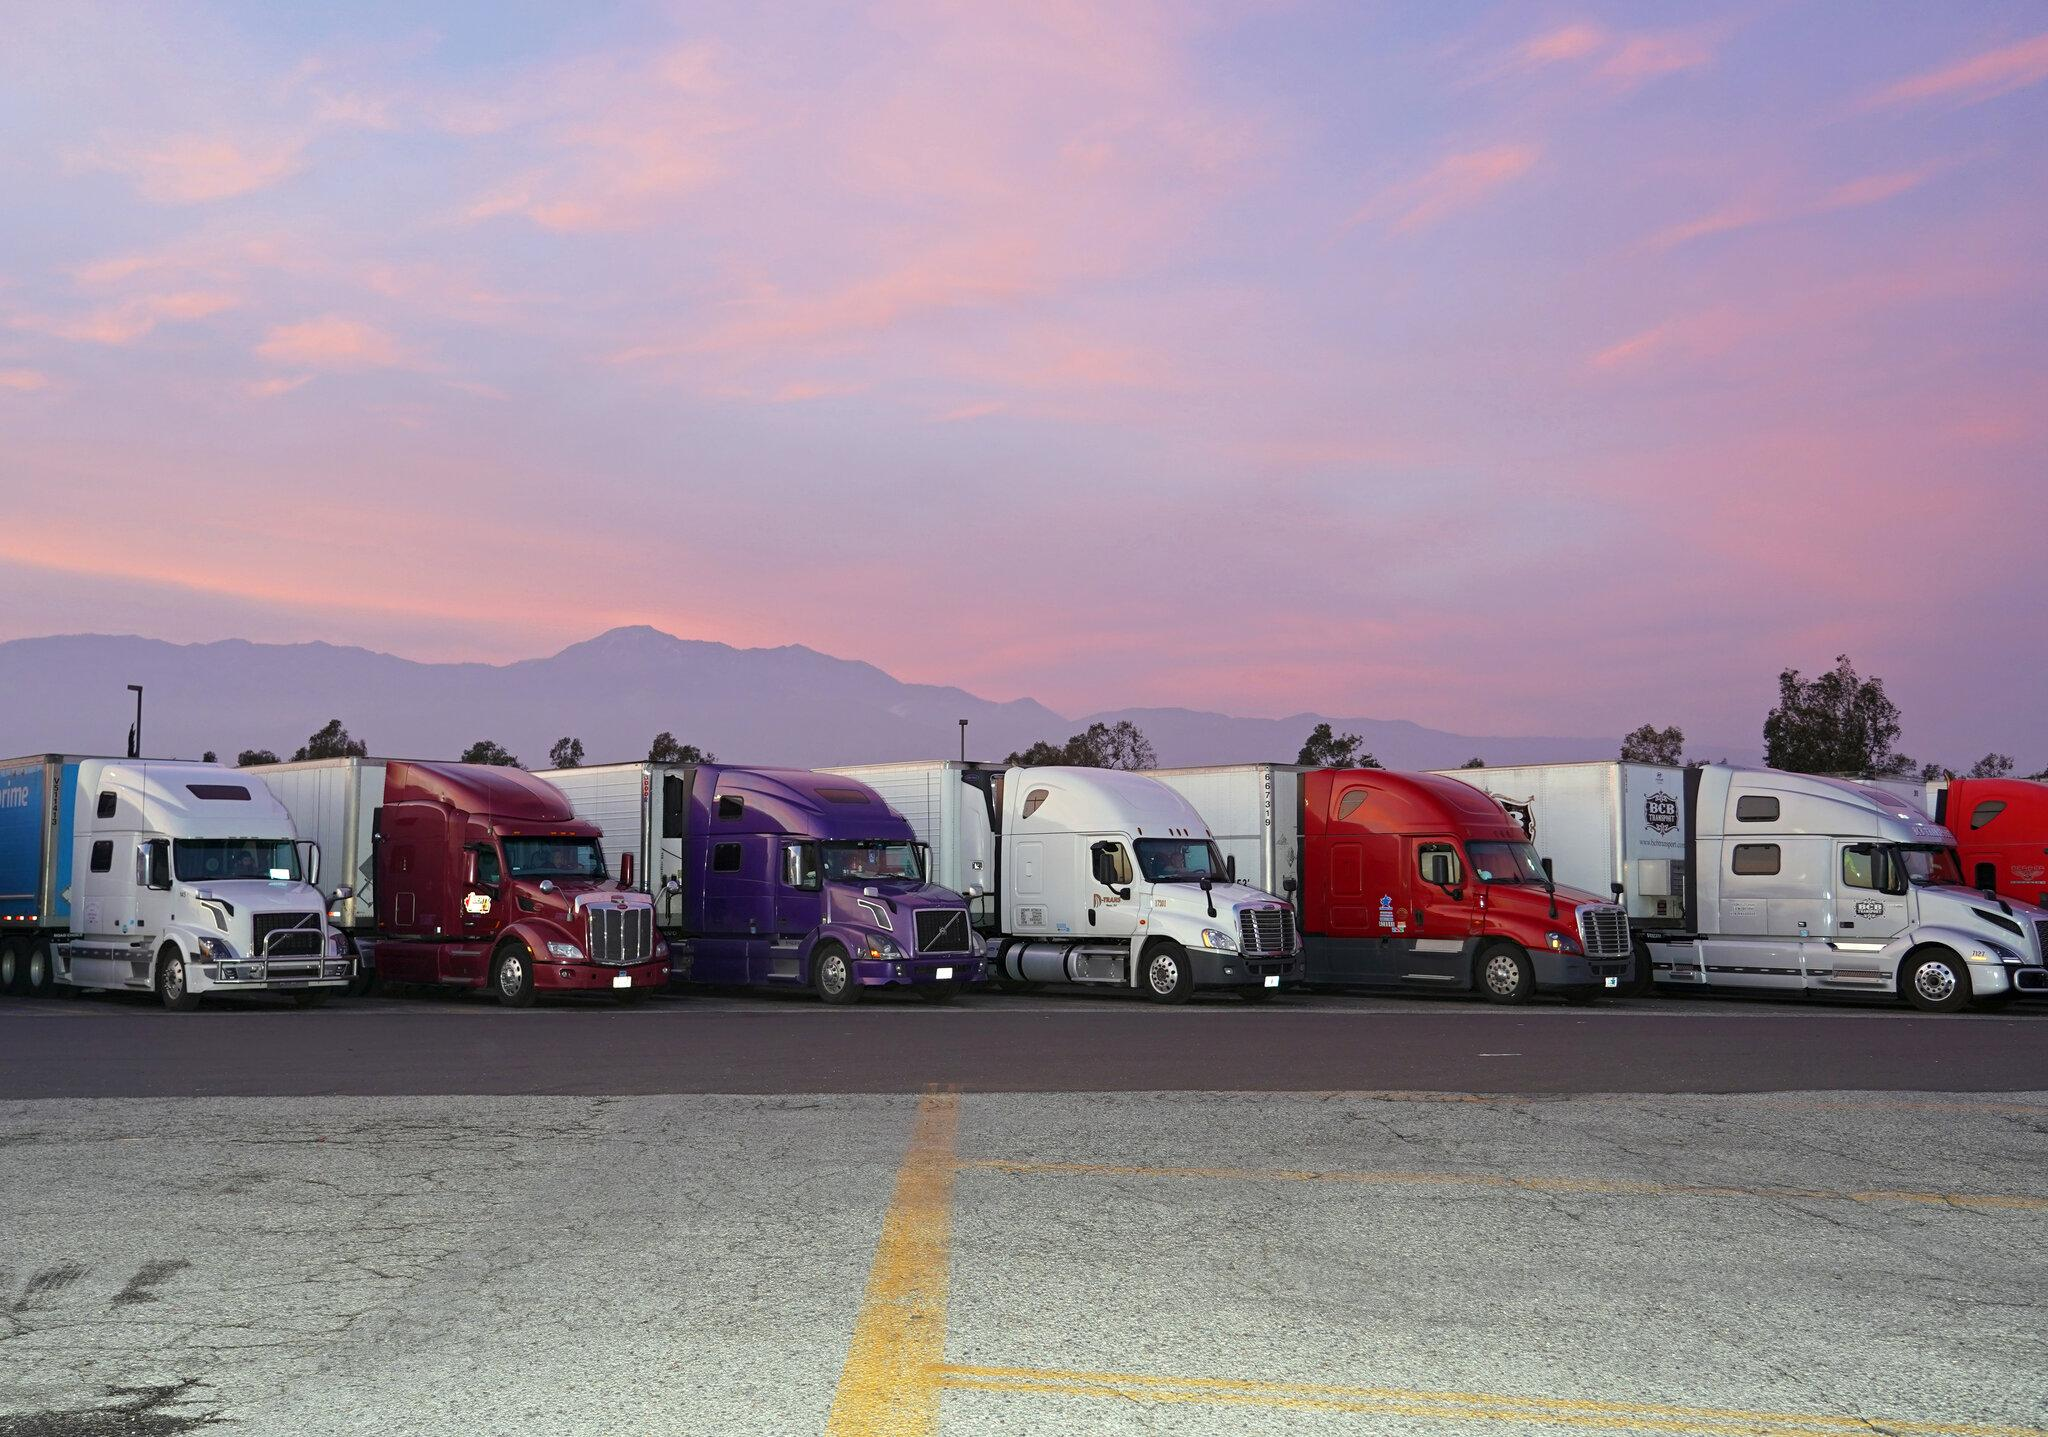truck: (1449, 764, 2048, 1009), (1142, 768, 1640, 1004), (837, 760, 1306, 1004), (534, 761, 984, 1003), (255, 760, 669, 1007), (2, 754, 356, 1014)
